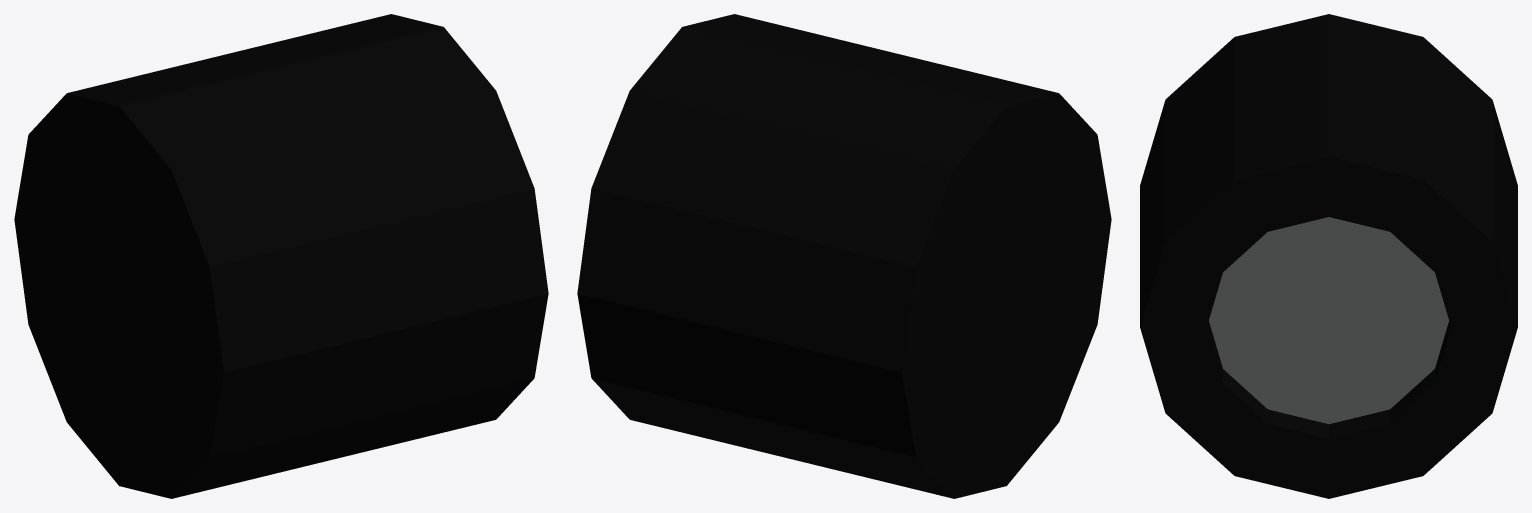
The model's file is tank_wheel.fbx.
3 views of the same model, side by side, from view 1: azimuth 30°, elevation 25°; view 2: azimuth 150°, elevation 25°; view 3: azimuth 270°, elevation 25° (orthographic). The views are drawn at different scales.
Parts seen in each view (by area): view 1: Wheel; view 2: Wheel; view 3: Wheel.
Part boxes in pixels (x1,y1,x2,y2): Wheel: [14, 14, 548, 498]; Wheel: [577, 14, 1111, 498]; Wheel: [1140, 14, 1517, 498].
Bounding box in the file's own units: 1.79 × 2 × 2.
